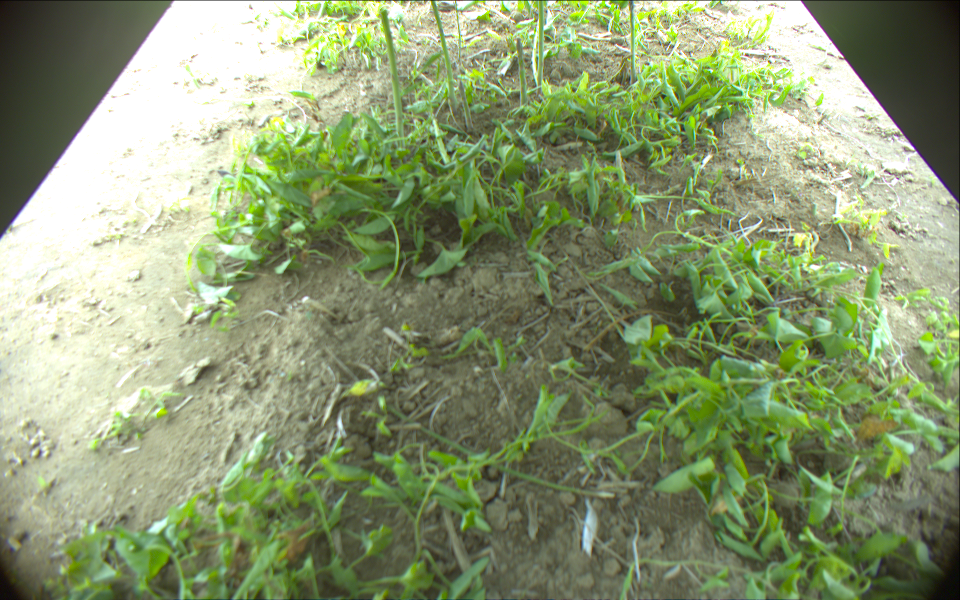aspa: (378, 6, 405, 137), (429, 1, 458, 105), (621, 1, 639, 82), (430, 115, 457, 169), (533, 1, 546, 90), (513, 35, 528, 108), (459, 82, 478, 132)
